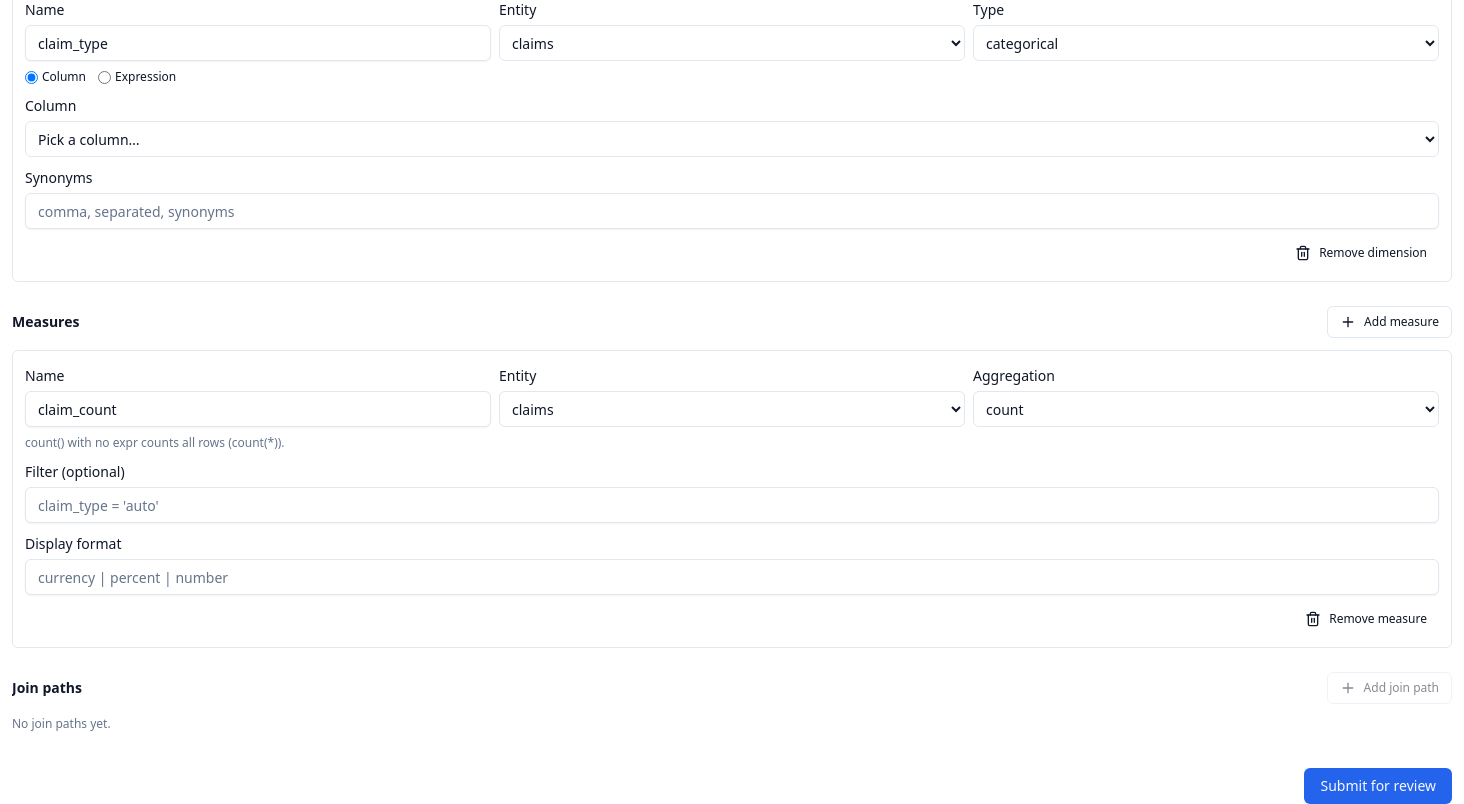
Test case: DefinitionEditor — entity/dimension/measure authoring bound to real dataset columns › submit surfaces the full [{object,problem}] list mapped onto the offending row, and stays a draft
(page scrolled)
Expected: the field showing "claim_type" below "Dimensions" is shown, [25,25,491,61]
Click the button "Submit for review".
click(1378, 786)  # box [1304,768,1452,803]
(page scrolled)
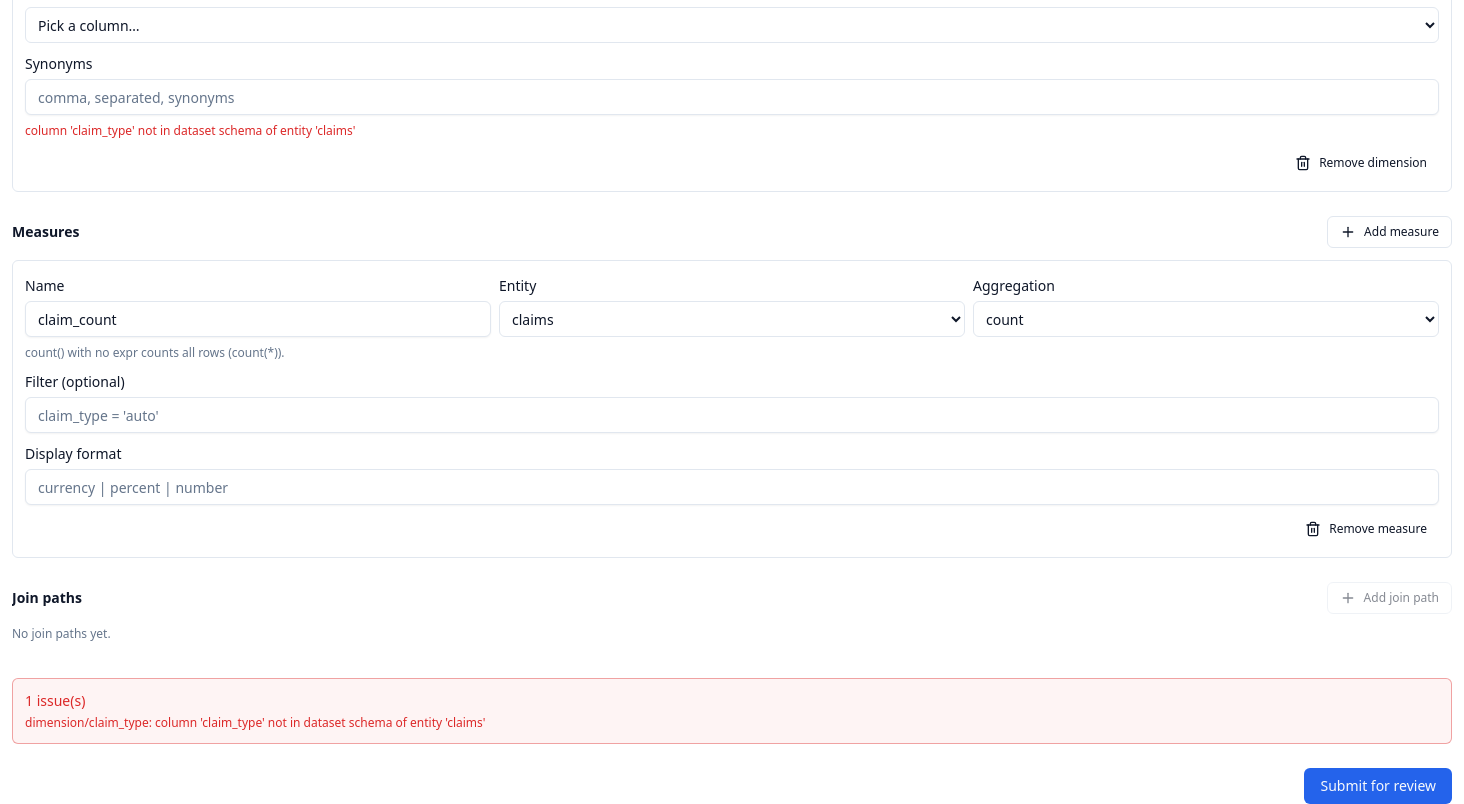
Expected: the number of list items "column 'claim_type' not in dataset schema of entity 'claims'" is 2, [25,122,356,139]; [25,714,486,731]
Expected: the list item "column 'claim_type' not in dataset schema of entity 'claims'" is shown, [25,122,356,139]
Expected: the text "1 issue(s)" is shown, [25,691,85,710]
